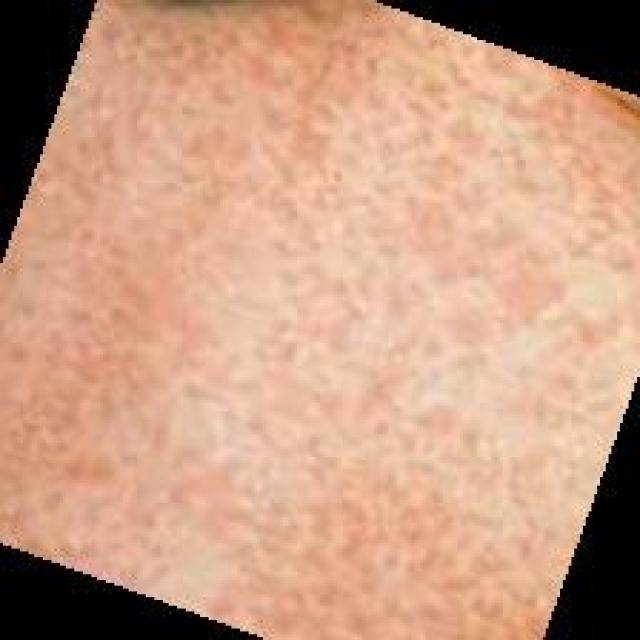others: (0, 0, 634, 631)
